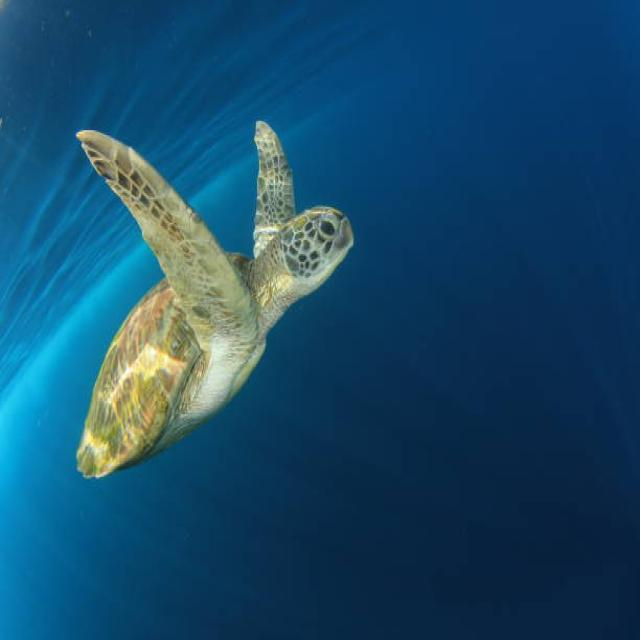sea turtle: (56, 106, 360, 484), (63, 97, 228, 269), (264, 187, 368, 307)
